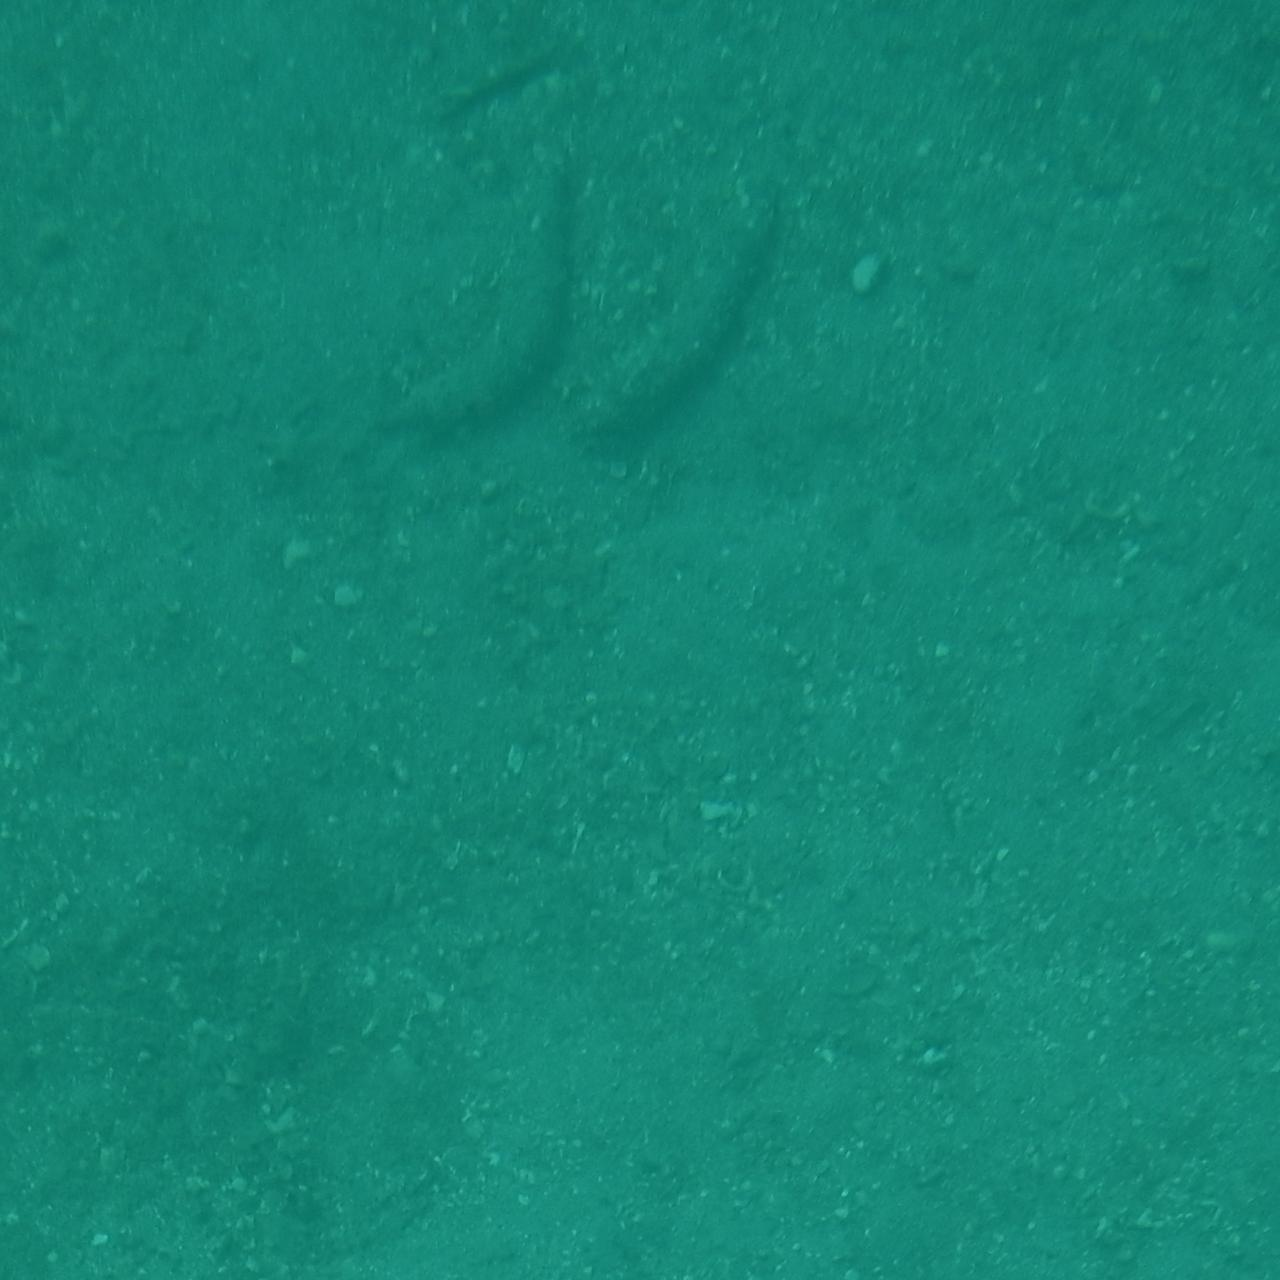Holothuria tubulosa: (358, 157, 574, 465), (608, 163, 806, 440), (0, 399, 66, 719), (1171, 1, 1280, 181)
